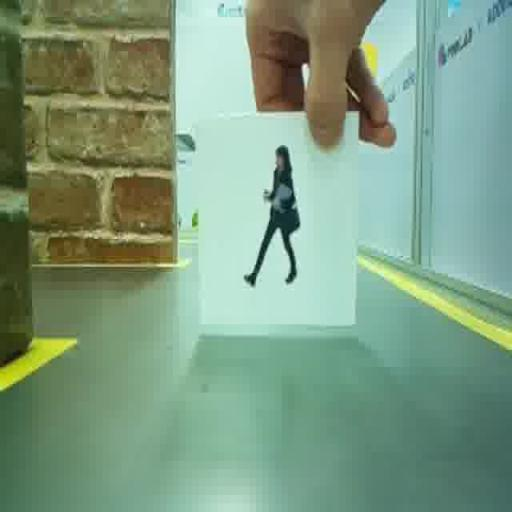human: (244, 145, 299, 285)
